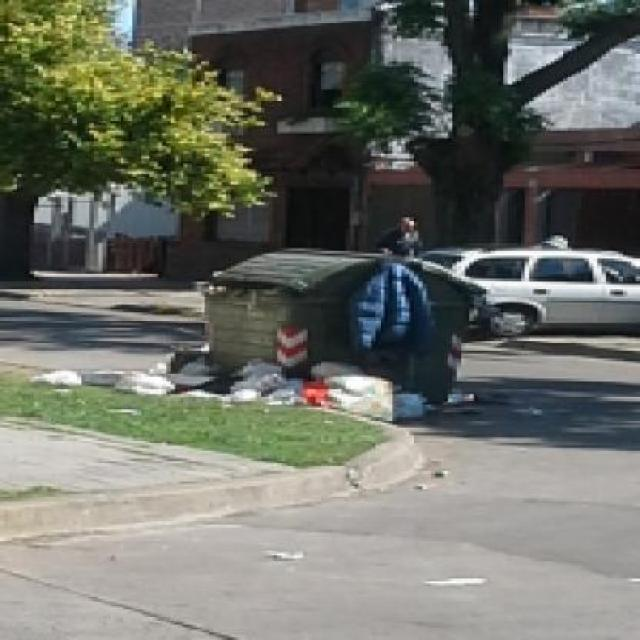garbage: (221, 357, 414, 418), (31, 359, 205, 392)
